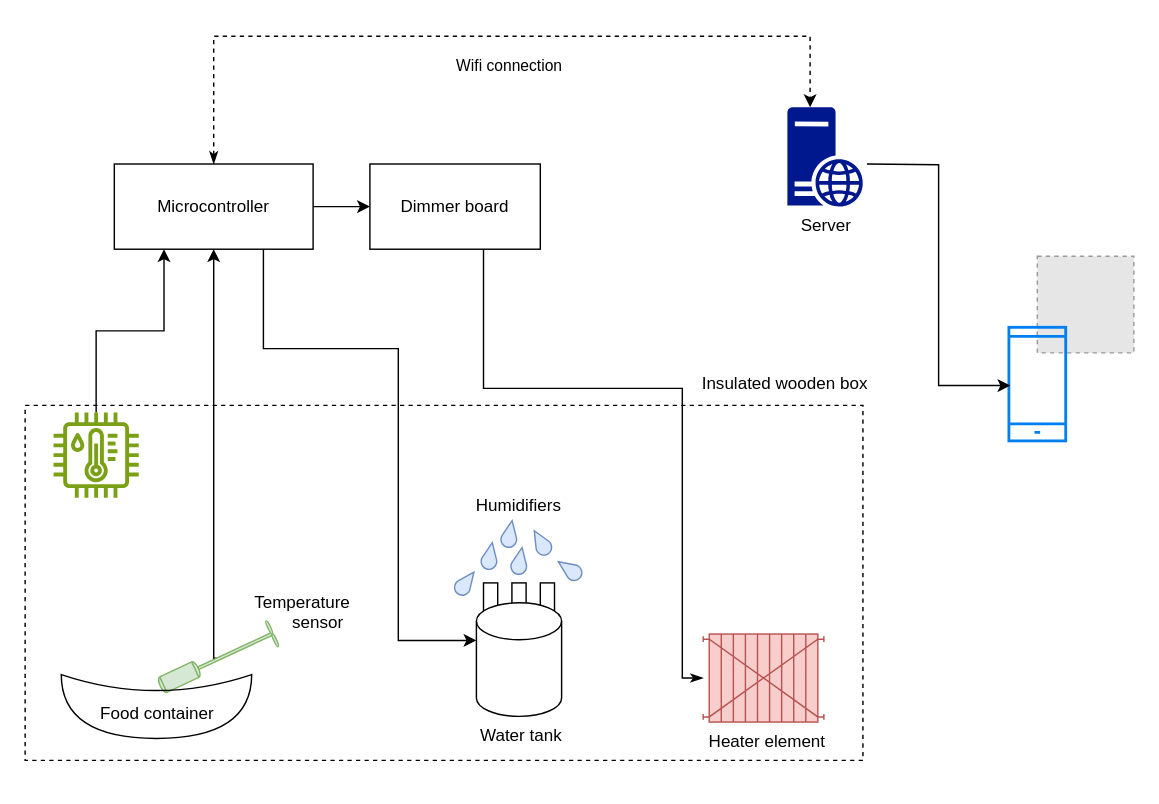
This 1159x804 diagram has some shape labels left out. Grey dashed boxes stand in for pictures. The centre of each missing label's shape, as x and y in pixels:
"Notifications via Telegram" goes at (x=1036, y=383).
"Temperature & humidity sensor" goes at (x=95, y=454).
